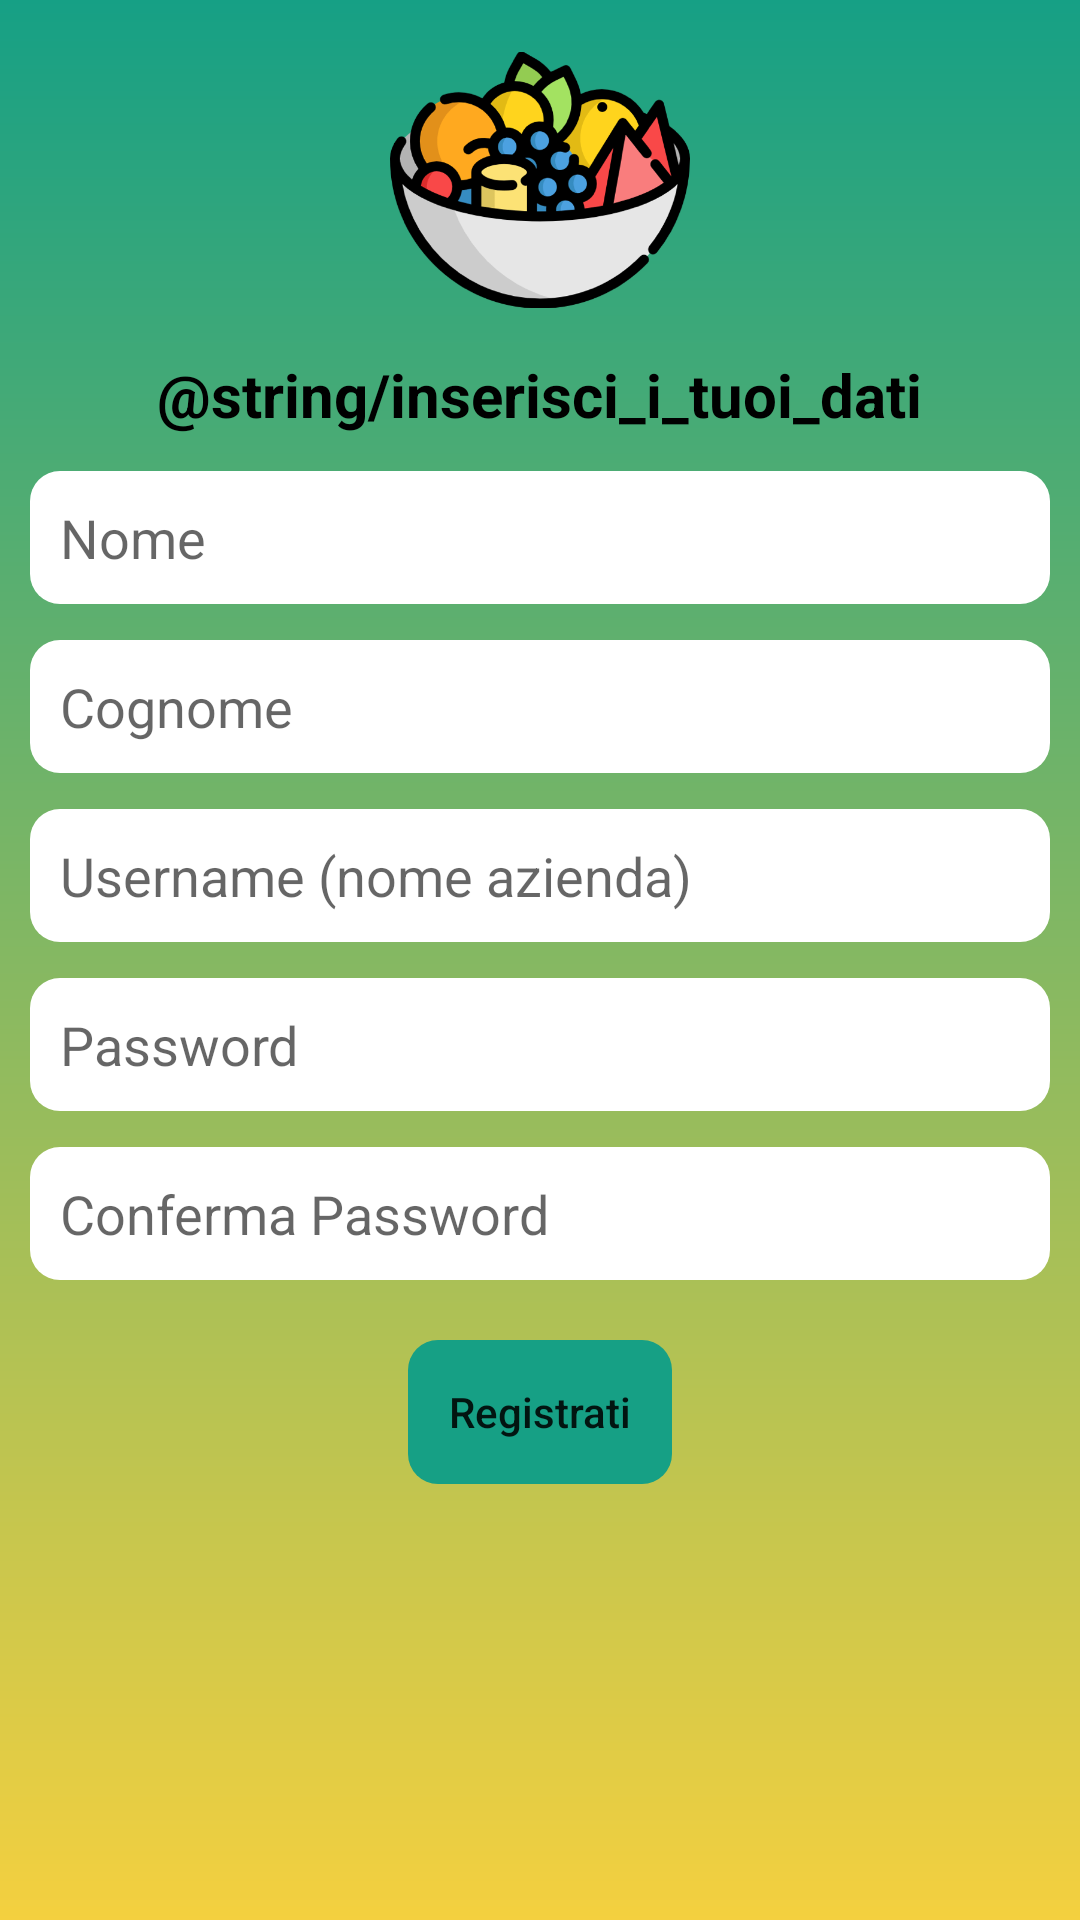

Icons on this 1080×1920 Android screen, each with the point to tap as point (x, y):
fruit salad: point (540, 180)
